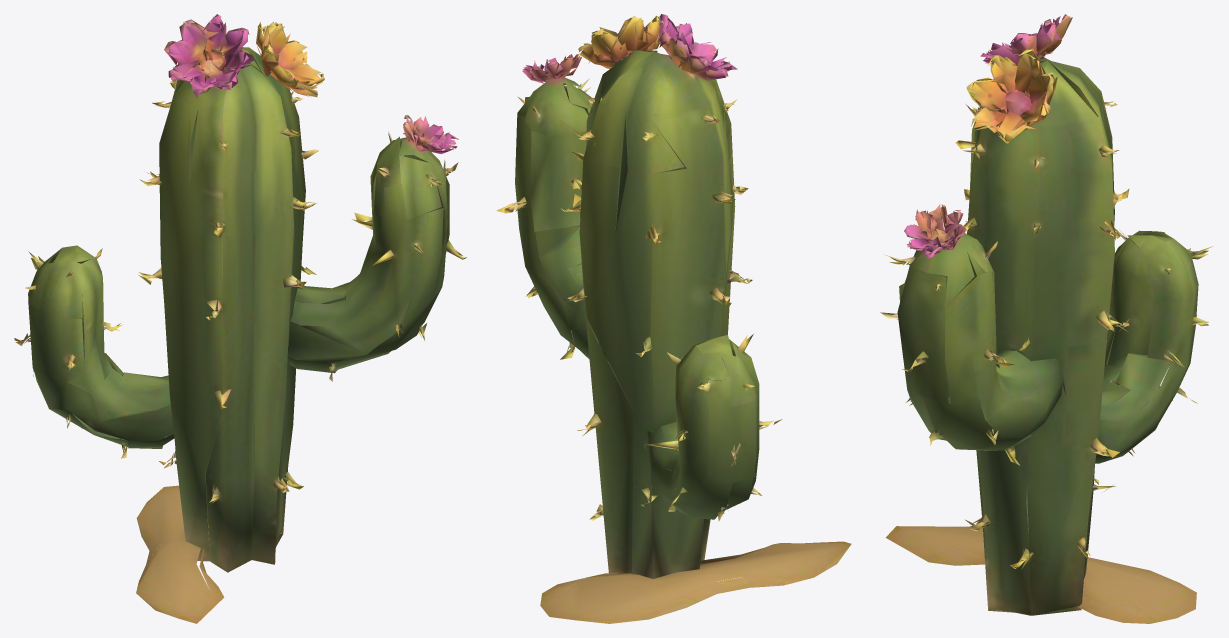
The model's file is cactus@suntotem.glb.
3 renders of one model, left to right at view 1: azimuth 30°, elevation 25°; view 2: azimuth 150°, elevation 25°; view 3: azimuth 270°, elevation 25°, orthographic. The views are drawn at different scales.
Parts seen in each view (by area): view 1: cactus@suntotem; view 2: cactus@suntotem; view 3: cactus@suntotem.
Part boxes in pixels (x1,y1,x2,y2): cactus@suntotem: (14, 14, 466, 623); cactus@suntotem: (496, 14, 851, 623); cactus@suntotem: (880, 14, 1212, 623).
Size of the model in its own units: 1.1 by 1.7 by 0.897.
1 material, 1 textured.
